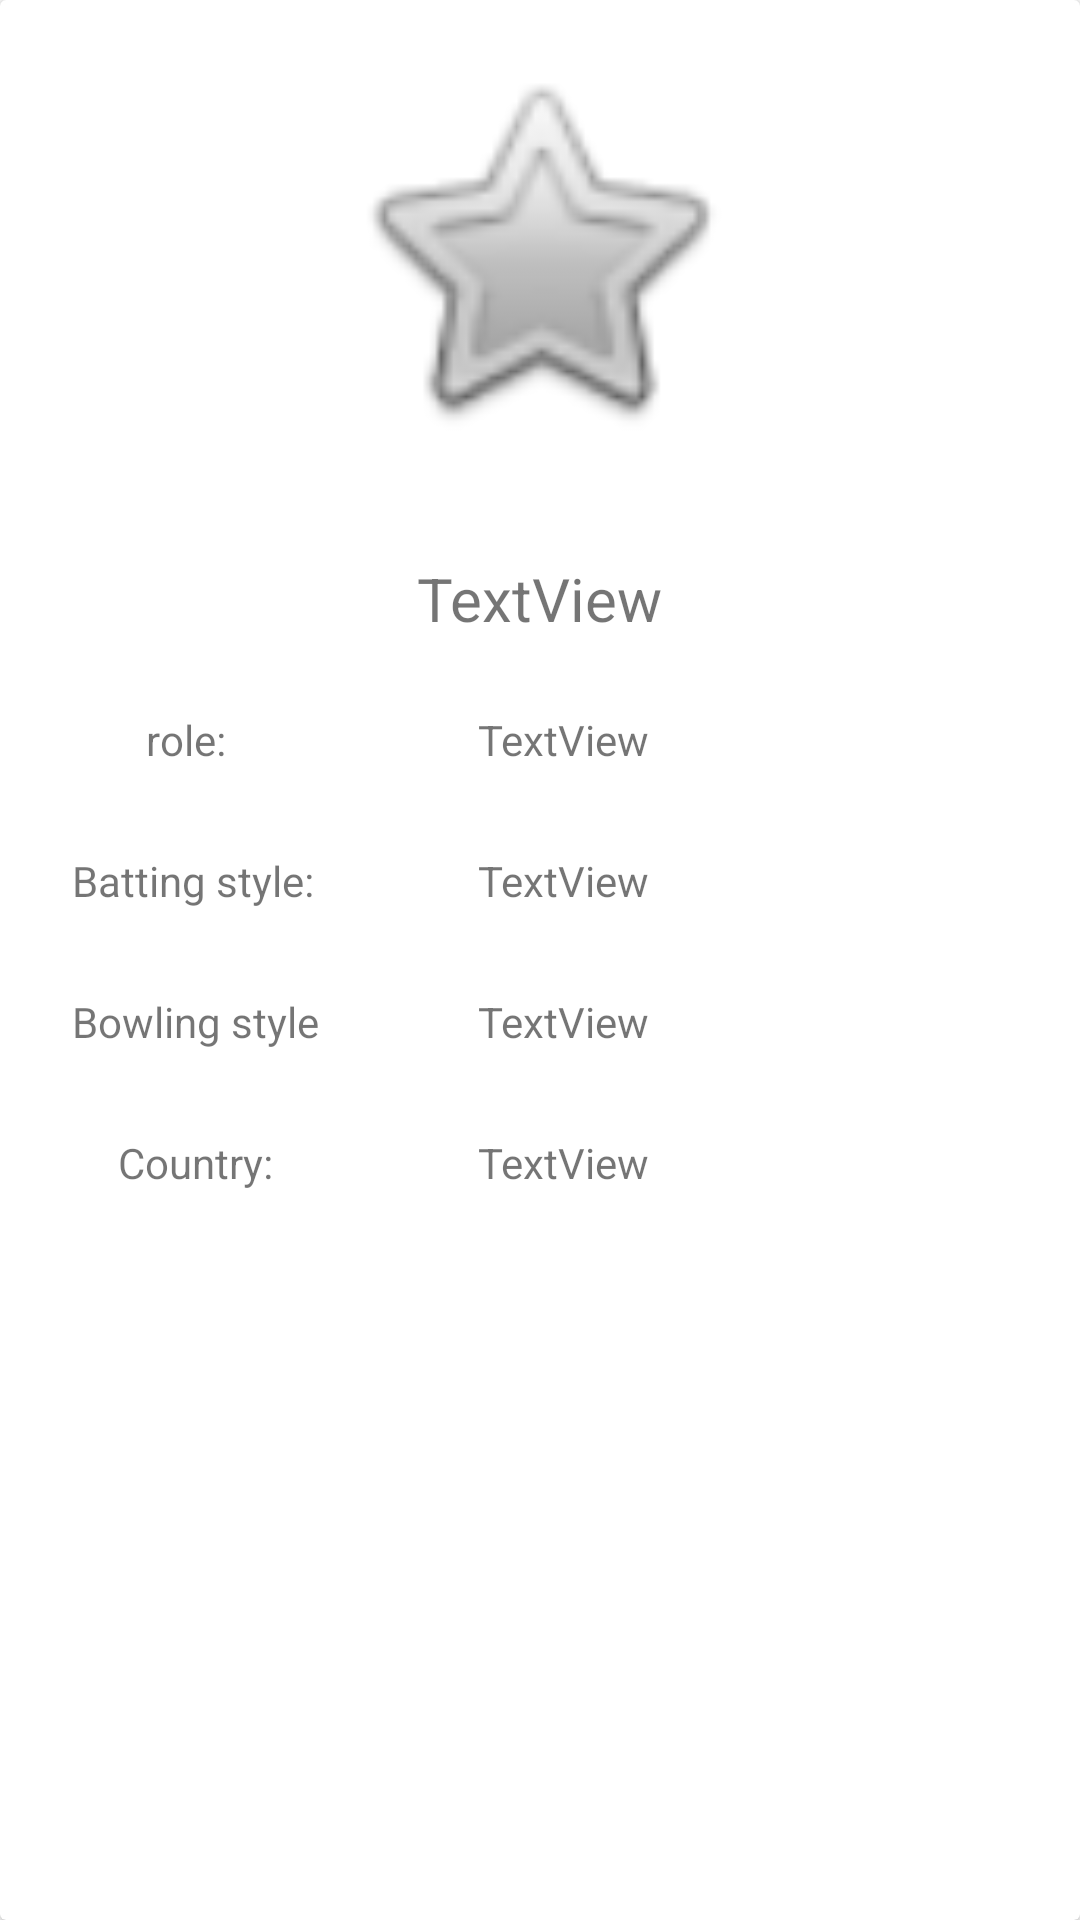

Screen size 1080px×1920px. Icon name, then its center in pixels as [x,y]:
star: [542,252]
